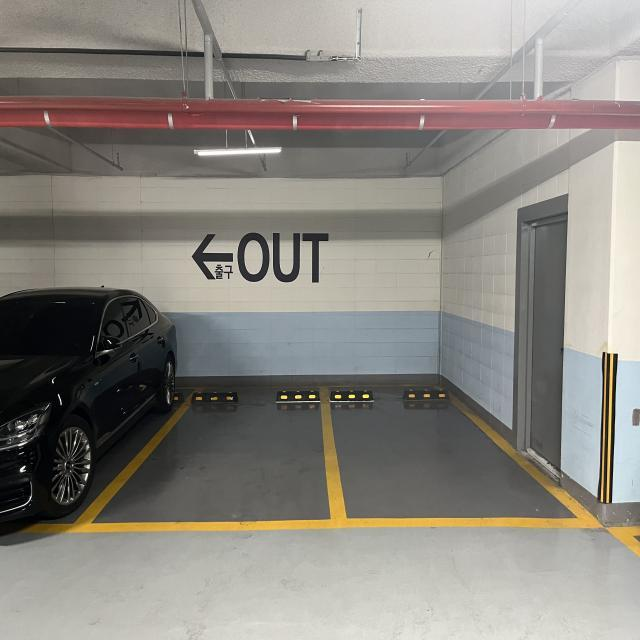empty: (332, 365, 554, 526), (142, 376, 334, 520)
